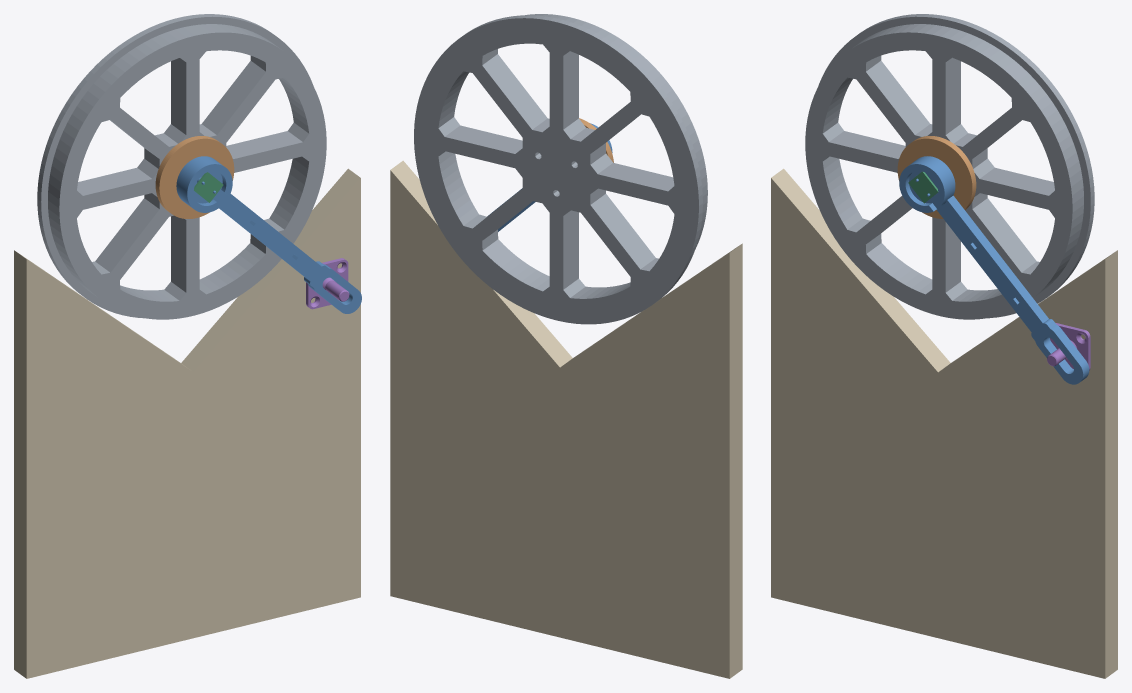
Rendered from asm_v3_alt.glb.
3 views of the same model, side by side, from view 1: azimuth 30°, elevation 25°; view 2: azimuth 150°, elevation 25°; view 3: azimuth 330°, elevation 25° (orthographic).
Visible parts, largest first — view 1: wall, wheel, carrier, hub, post; view 2: wall, wheel; view 3: wall, wheel, carrier, hub, post, board.
Boxes of the visible parts, bbox=[...] form: wall: bbox=[14, 168, 360, 678]; wheel: bbox=[37, 14, 326, 319]; carrier: bbox=[176, 156, 361, 313]; hub: bbox=[155, 136, 234, 218]; post: bbox=[306, 258, 349, 309]; wall: bbox=[390, 160, 742, 678]; wheel: bbox=[414, 14, 707, 324]; wall: bbox=[771, 168, 1117, 678]; wheel: bbox=[805, 14, 1094, 319]; carrier: bbox=[899, 156, 1089, 384]; hub: bbox=[897, 136, 976, 218]; post: bbox=[1047, 323, 1090, 370]; board: bbox=[908, 171, 938, 203].
Size of the model in its own units: 250 by 435 by 45.
